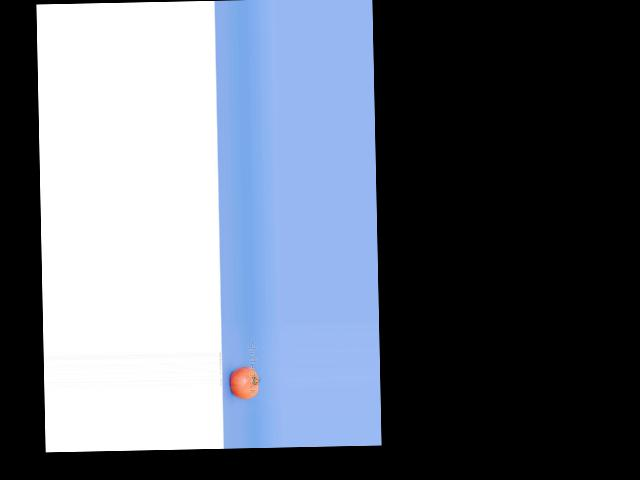tomato: (229, 367, 259, 400)
